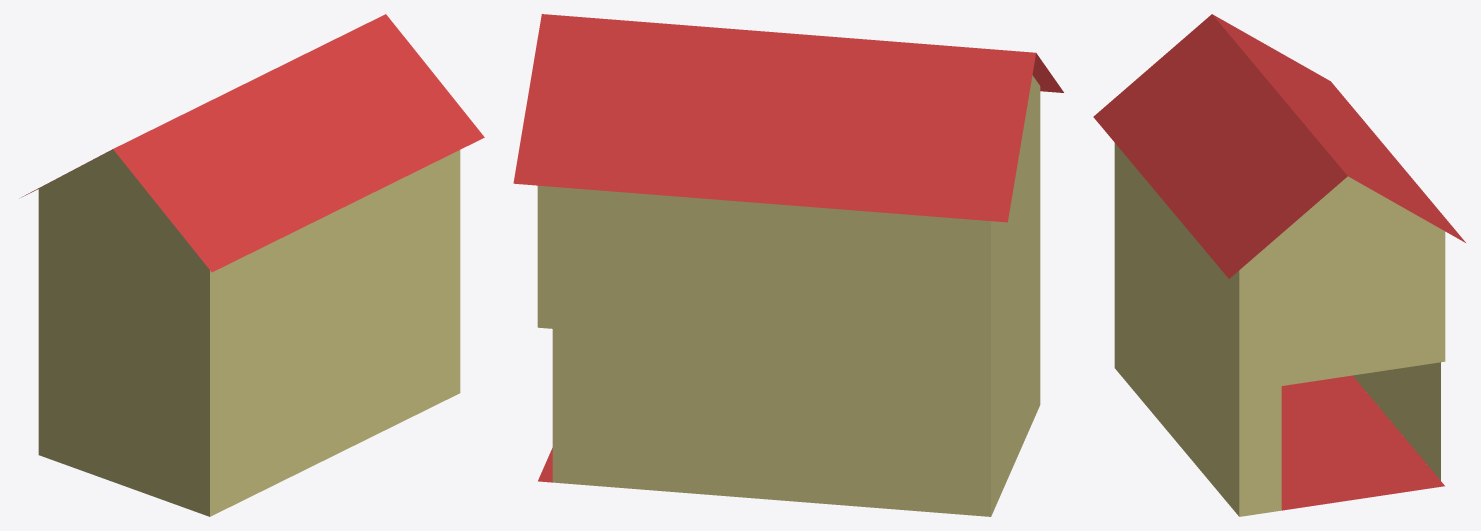
3 renders of one model, left to right at view 1: azimuth 30°, elevation 25°; view 2: azimuth 150°, elevation 25°; view 3: azimuth 270°, elevation 25°, orthographic. The views are drawn at different scales.
Visible parts, largest first — view 1: group_5, group_3, group_4; view 2: group_5, group_3, group_4; view 3: group_5, group_3, group_6, group_4.
Boxes of the visible parts, <box> form: group_5: <box>38,149,460,516</box>; group_3: <box>112,14,483,272</box>; group_4: <box>19,15,484,267</box>; group_5: <box>537,75,1040,516</box>; group_3: <box>513,14,1035,222</box>; group_4: <box>542,14,1063,213</box>; group_5: <box>1114,143,1445,516</box>; group_3: <box>1093,14,1465,278</box>; group_6: <box>1281,375,1444,510</box>; group_4: <box>1176,14,1377,278</box>.
Bounding box in the file's own units: 20.84 × 16.63 × 16.3.
